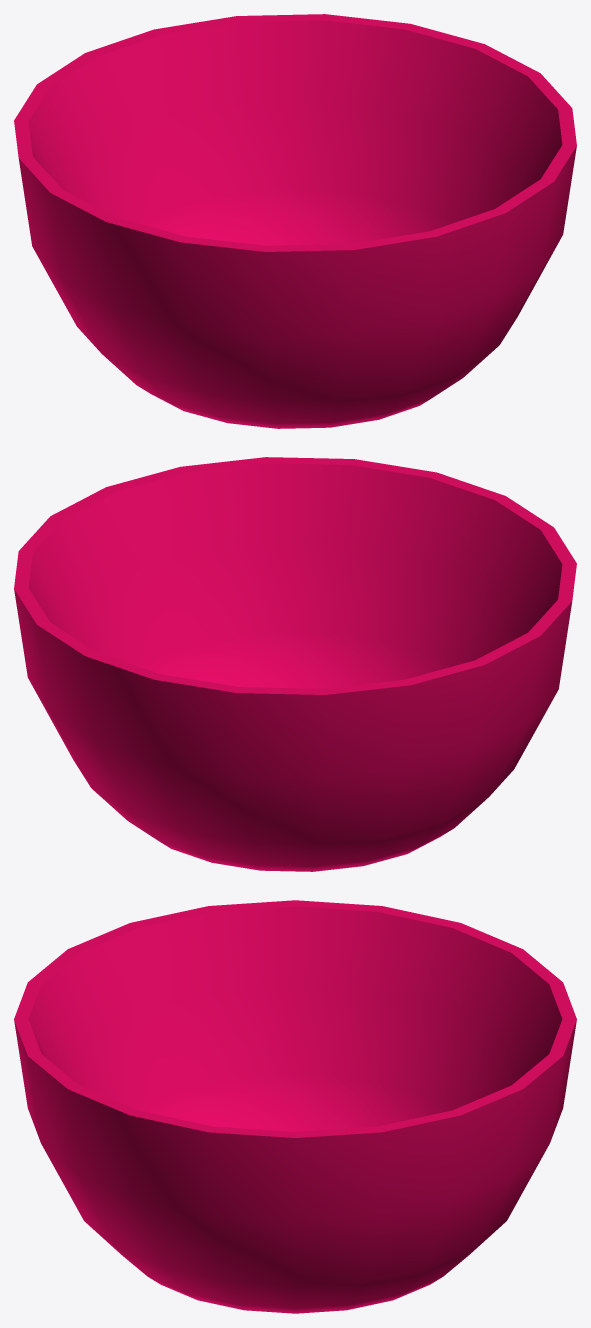
The model's file is Bowl_03_Lod0.fbx.
The picture shows the model from 3 angles, top to bottom: view 1: azimuth 30°, elevation 25°; view 2: azimuth 150°, elevation 25°; view 3: azimuth 270°, elevation 25°; orthographic projection.
Parts seen in each view (by area): view 1: Bowl_03_Lod0; view 2: Bowl_03_Lod0; view 3: Bowl_03_Lod0.
Part boxes in pixels (x1,y1,x2,y2): Bowl_03_Lod0: [14, 14, 576, 428]; Bowl_03_Lod0: [14, 457, 576, 871]; Bowl_03_Lod0: [14, 900, 576, 1313].
Size of the model in its own units: 33.56 by 14.75 by 33.56.
